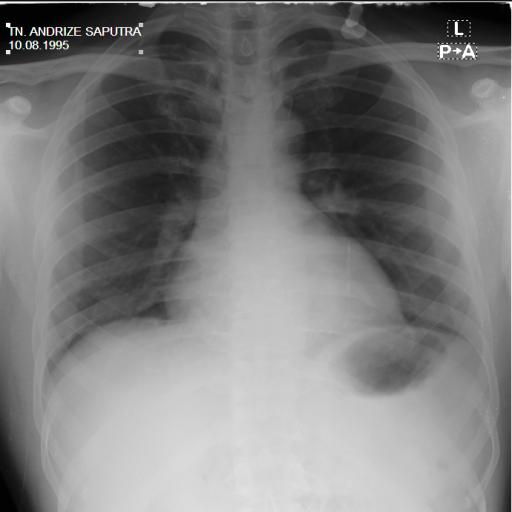kardiomegali: (32, 4, 496, 398)
